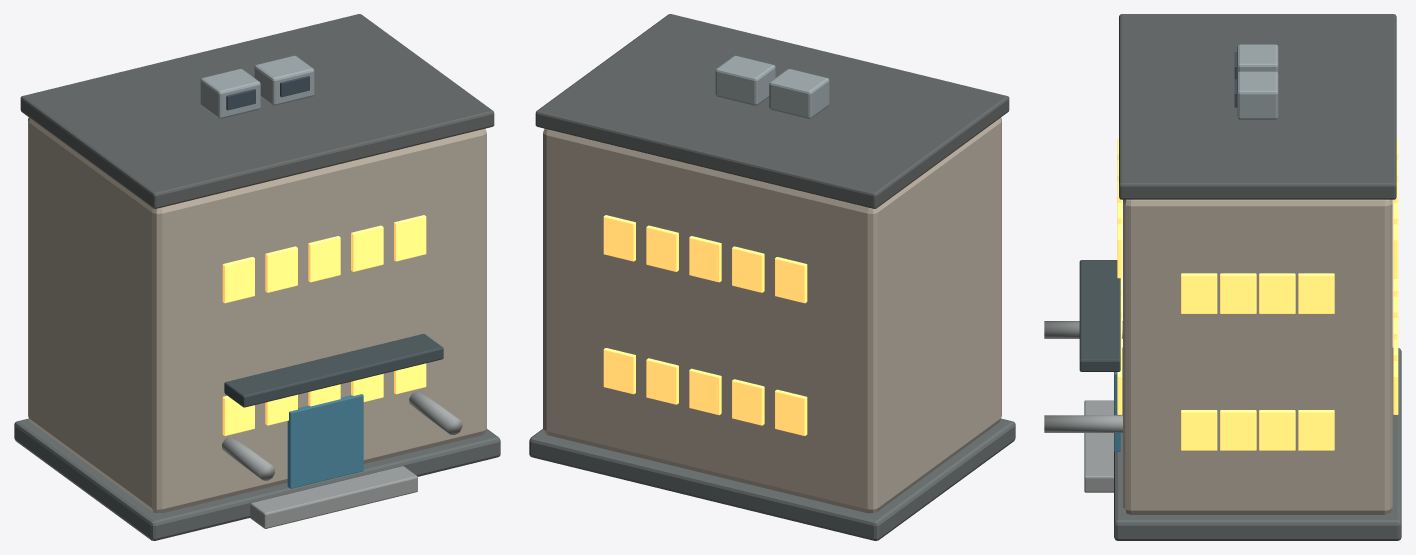
The model's file is civic_school.glb.
The picture shows the model from 3 angles, left to right: view 1: azimuth 30°, elevation 25°; view 2: azimuth 150°, elevation 25°; view 3: azimuth 270°, elevation 25°; orthographic projection. The views are drawn at different scales.
Parts seen in each view (by area): view 1: main_massing, roof_slab, foundation, civic_canopy, civic_entrance, civic_steps, hvac_unit, hvac_unit.001, front_window.006, front_window.008, front_window.009, front_window.005 (+7 smaller); view 2: main_massing, roof_slab, foundation, hvac_unit, hvac_unit.001, rear_window, rear_window.001, rear_window.002, rear_window.003, rear_window.006, rear_window.008, rear_window.009 (+3 smaller); view 3: main_massing, roof_slab, foundation, civic_canopy, civic_steps, hvac_unit.001, side_window, side_window.001, side_window.002, side_window.003, side_window.004, side_window.005 (+5 smaller).
Boxes of the visible parts, box(x1,y1,x2,y2) form: main_massing: box(28, 117, 486, 513); roof_slab: box(20, 14, 494, 208); foundation: box(14, 418, 500, 540); civic_canopy: box(224, 334, 443, 407); civic_entrance: box(287, 394, 363, 488); civic_steps: box(250, 466, 417, 528); hvac_unit: box(200, 69, 260, 118); hvac_unit.001: box(254, 55, 314, 105); front_window.006: box(265, 246, 297, 292); front_window.008: box(351, 225, 383, 271); front_window.009: box(394, 215, 426, 261); front_window.005: box(222, 257, 254, 303); main_massing: box(543, 117, 1001, 513); roof_slab: box(535, 14, 1009, 208); foundation: box(529, 418, 1015, 540); hvac_unit: box(769, 69, 829, 118); hvac_unit.001: box(715, 55, 775, 105); rear_window: box(775, 389, 807, 435); rear_window.001: box(732, 379, 764, 425); rear_window.002: box(689, 368, 721, 415); rear_window.003: box(646, 358, 678, 404); rear_window.006: box(732, 246, 764, 292); rear_window.008: box(646, 225, 678, 271); rear_window.009: box(603, 215, 635, 261); main_massing: box(1123, 199, 1392, 514); roof_slab: box(1119, 14, 1396, 199); foundation: box(1114, 347, 1401, 540); civic_canopy: box(1079, 260, 1120, 371); civic_steps: box(1084, 400, 1113, 492); hvac_unit.001: box(1237, 71, 1278, 119); side_window: box(1298, 410, 1334, 450); side_window.001: box(1259, 410, 1295, 450); side_window.002: box(1220, 410, 1256, 450); side_window.003: box(1181, 410, 1217, 450); side_window.004: box(1298, 273, 1334, 313); side_window.005: box(1259, 273, 1295, 313).
Bounding box in the file's own units: 1.82 × 1.87 × 1.57.
